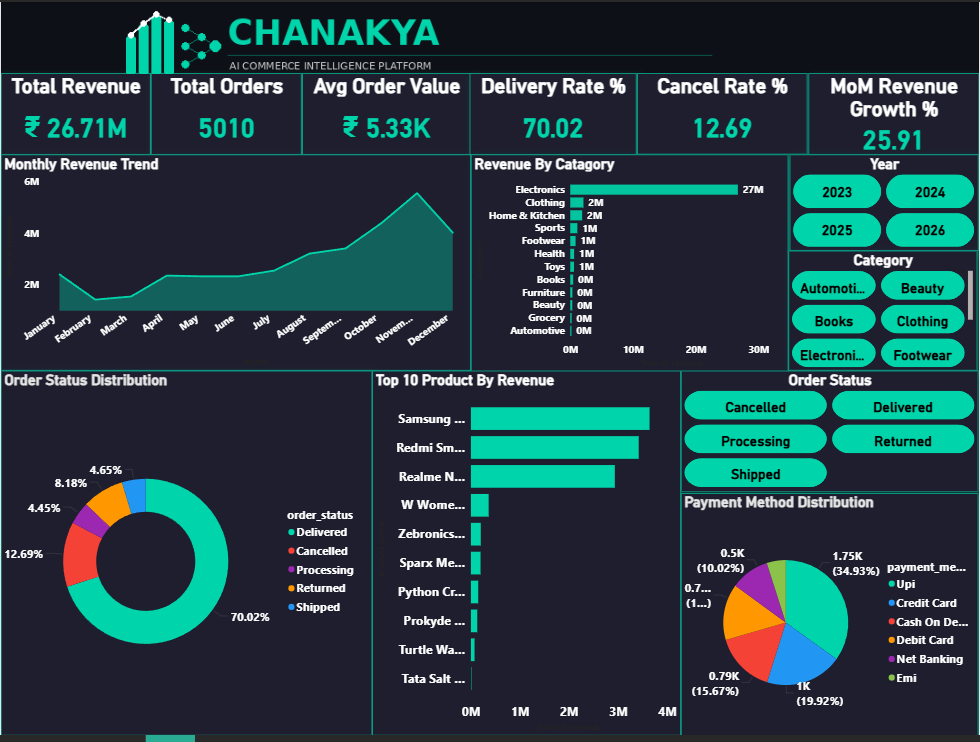

The page's visual inventory and layout, read from the dashboard file:
{"tool":"powerbi","page":{"name":"Executive Summary","canvas":[1600,1200],"ordinal":0},"visuals":[{"type":"card","title":"Total Revenue","fields":{"Values":["order_items_processed.Total Revenue"]},"box":[0,116.1,245.2,133.9],"z":0},{"type":"card","title":"Total Orders","fields":{"Values":["order_items_processed.Total Orders"]},"box":[245.2,116.1,246.8,133.9],"z":1000},{"type":"card","title":"Avg Order Value","fields":{"Values":["order_items_processed.Avg Order Value"]},"box":[491.9,116.1,275.8,133.9],"z":2000},{"type":"card","title":"Delivery Rate %","fields":{"Values":["order_items_processed.Delivery Rate %"]},"box":[767.7,116.1,272.6,133.9],"z":3000},{"type":"lineChart","title":"Monthly Revenue Trend","fields":{"Category":["order_items_processed.order_date.Variation.Date Hierarchy.Year","order_items_processed.order_date.Variation.Date Hierarchy.Quarter","order_items_processed.order_date.Variation.Date Hierarchy.Month","order_items_processed.order_date.Variation.Date Hierarchy.Day"],"Y":["Sum(order_items_processed.revenue)"]},"box":[0,249.5,768.9,353.8],"z":4000},{"type":"clusteredBarChart","title":"Revenue By Catagory","fields":{"Category":["order_items_processed.category"],"Y":["Sum(order_items_processed.revenue)"]},"box":[768.9,249.5,519.4,355.8],"z":5000},{"type":"card","title":"Cancel Rate %","fields":{"Values":["order_items_processed.Cancellation Rate %"]},"box":[1040.9,116.6,278.1,132.9],"z":6000},{"type":"card","title":"MoM Revenue Growth %","fields":{"Values":["order_items_processed.MoM Revenue Growth %"]},"box":[1321,116.1,279,133.9],"z":7000},{"type":"donutChart","title":"Order Status Distribution","fields":{"Category":["orders_processed.order_status"],"Y":["orders_processed.Delivered Orders","orders_processed.Cancelled Orders","orders_processed.Processing Orders","orders_processed.Returned Orders","orders_processed.Shipped Orders"]},"box":[0,603.3,607.4,597.1],"z":7001},{"type":"pieChart","title":"Payment Method Distribution","fields":{"Category":["orders_processed.payment_method"],"Y":["CountNonNull(orders_processed.order_id)"]},"box":[1112.5,803.7,486.7,396.7],"z":7002},{"type":"advancedSlicerVisual","title":"Year","fields":{"Values":["orders_processed.order_year"]},"box":[1290.4,249.5,308.8,157.5],"z":7003},{"type":"advancedSlicerVisual","title":"Category","fields":{"Values":["order_items_processed.category"]},"box":[1288.4,407,308.8,196.3],"z":7004},{"type":"advancedSlicerVisual","title":"Order Status","fields":{"Values":["orders_processed.order_status"]},"box":[1112.5,603.3,486.7,198.4],"z":7005},{"type":"clusteredBarChart","title":"Top 10 Product By Revenue","fields":{"Category":["order_items_processed.product_name"],"Y":["Sum(order_items_processed.revenue)"]},"box":[607.4,603.3,505.1,597.1],"z":7006},{"type":"image","box":[0,0,1359.9,143.2],"z":7007}]}

Visuals, with their boxes in screenshot pixels (x1, y1, x2, y2), scaled from the page's 1600x1200 canvas onto the 980x742 screenshot:
"Total Revenue" card: {"left": 0, "top": 72, "right": 150, "bottom": 155}
"Total Orders" card: {"left": 150, "top": 72, "right": 301, "bottom": 155}
"Avg Order Value" card: {"left": 301, "top": 72, "right": 470, "bottom": 155}
"Delivery Rate %" card: {"left": 470, "top": 72, "right": 637, "bottom": 155}
"Monthly Revenue Trend" lineChart: {"left": 0, "top": 154, "right": 471, "bottom": 373}
"Revenue By Catagory" clusteredBarChart: {"left": 471, "top": 154, "right": 789, "bottom": 374}
"Cancel Rate %" card: {"left": 638, "top": 72, "right": 808, "bottom": 154}
"MoM Revenue Growth %" card: {"left": 809, "top": 72, "right": 979, "bottom": 155}
"Order Status Distribution" donutChart: {"left": 0, "top": 373, "right": 372, "bottom": 741}
"Payment Method Distribution" pieChart: {"left": 681, "top": 497, "right": 979, "bottom": 741}
"Year" advancedSlicerVisual: {"left": 790, "top": 154, "right": 979, "bottom": 252}
"Category" advancedSlicerVisual: {"left": 789, "top": 252, "right": 978, "bottom": 373}
"Order Status" advancedSlicerVisual: {"left": 681, "top": 373, "right": 979, "bottom": 496}
"Top 10 Product By Revenue" clusteredBarChart: {"left": 372, "top": 373, "right": 681, "bottom": 741}
image: {"left": 0, "top": 0, "right": 833, "bottom": 89}
